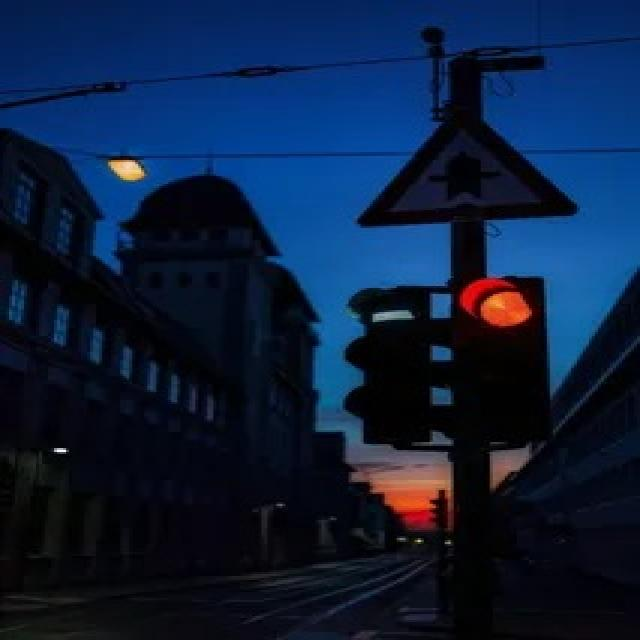kirmizi: (464, 279, 556, 439)
